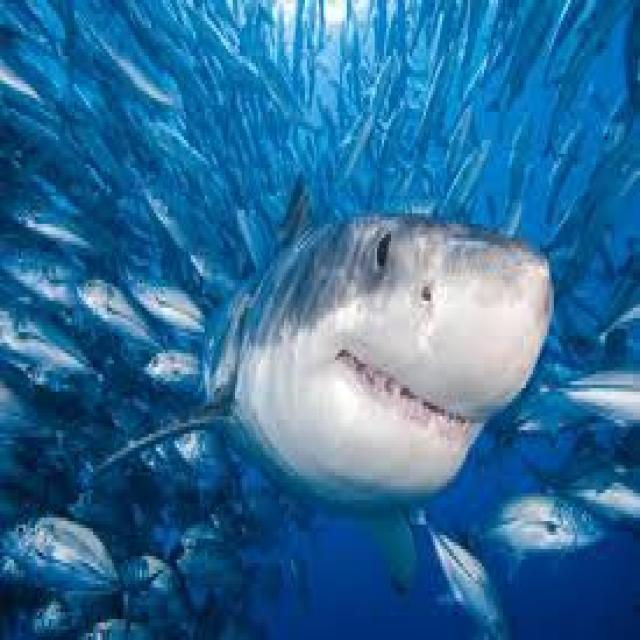shark: (119, 182, 552, 584)
